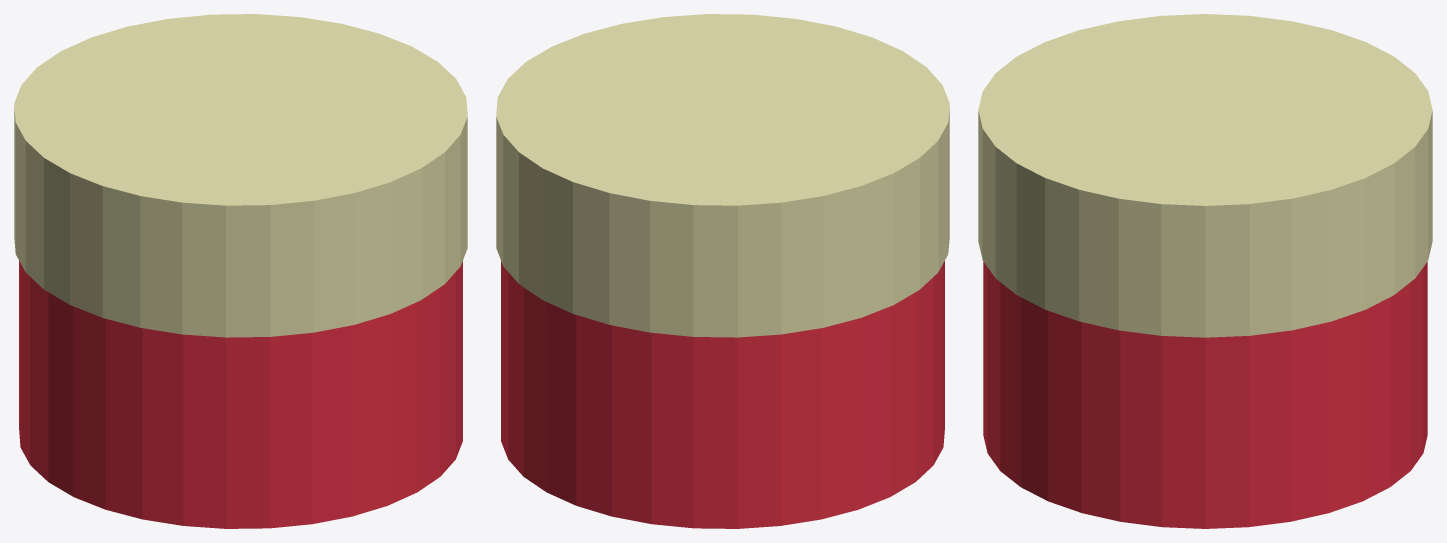
Rendered from Drum.fbx.
The picture shows the model from 3 angles, left to right: view 1: azimuth 30°, elevation 25°; view 2: azimuth 150°, elevation 25°; view 3: azimuth 270°, elevation 25°; orthographic projection.
Visible parts, largest first — view 1: Drum; view 2: Drum; view 3: Drum.
Part boxes in pixels (x1=…): Drum: x1=14, y1=14, x2=467, y2=528; Drum: x1=496, y1=14, x2=949, y2=528; Drum: x1=978, y1=14, x2=1432, y2=528.
Size of the model in its own units: 3.21 by 2.53 by 3.21.
